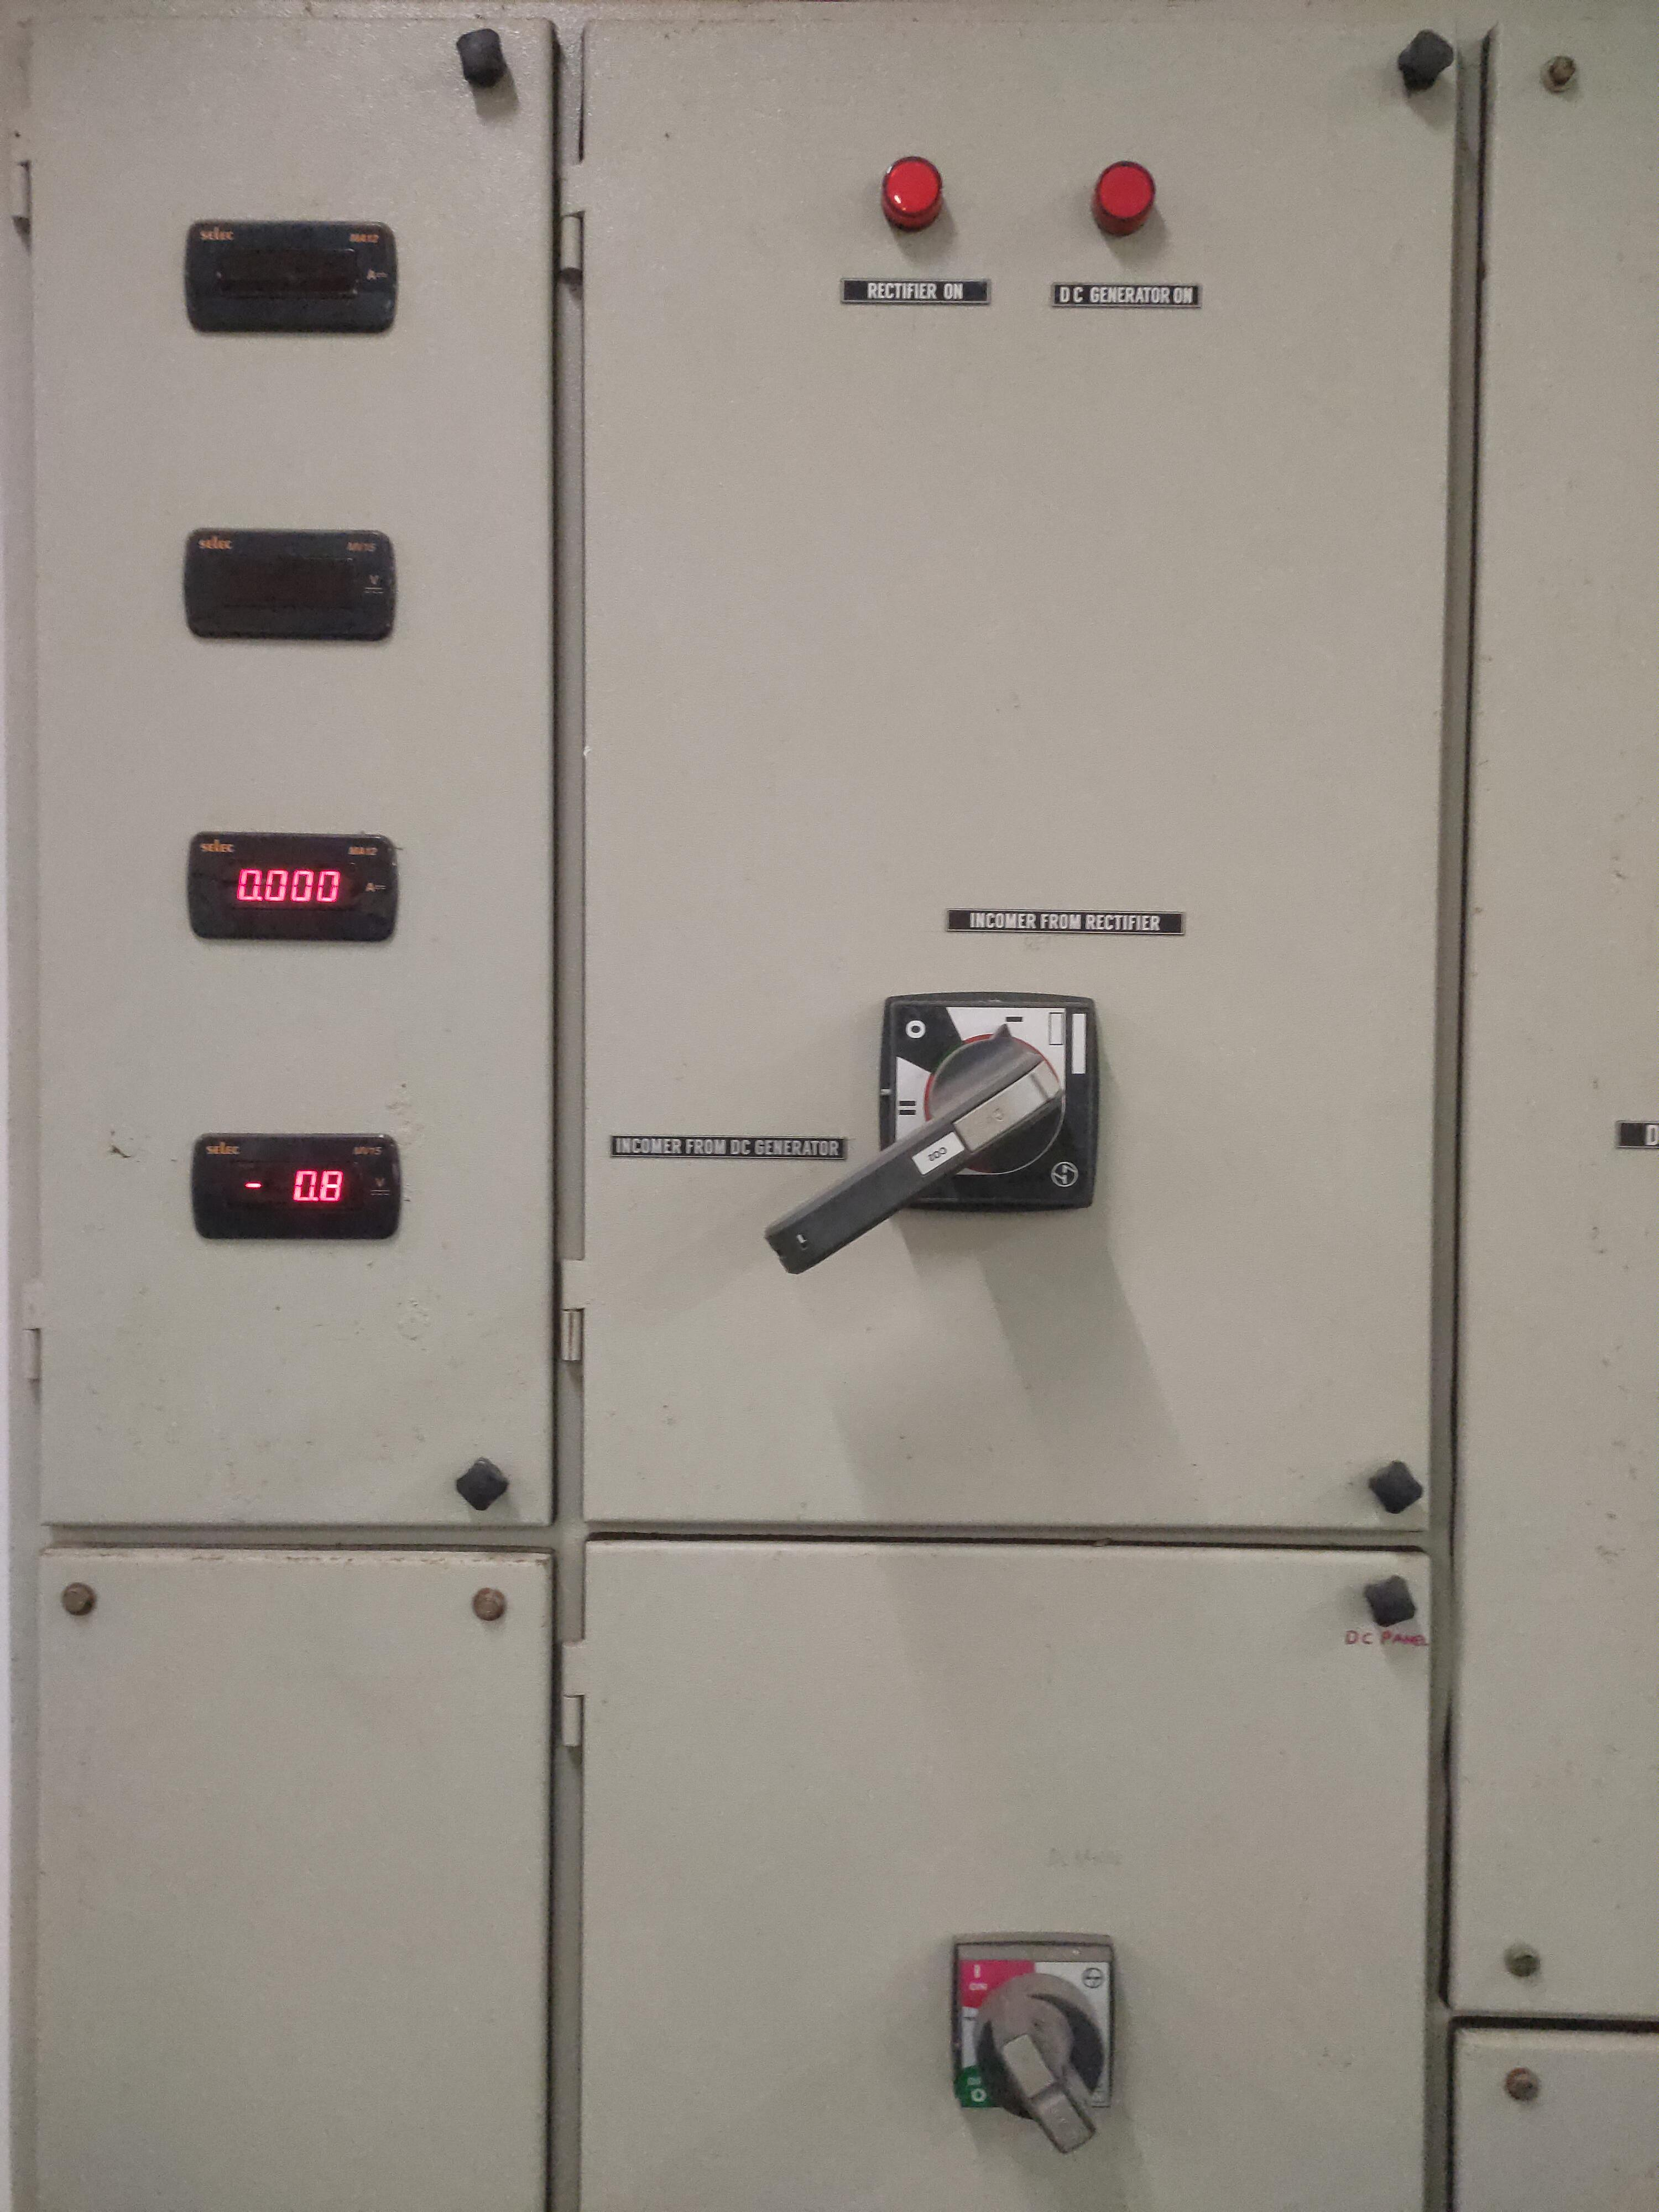Knob 1: (728, 951, 1124, 1310)
Knob 2: (882, 1881, 1182, 2177)
Light Indications: (830, 106, 1222, 326)
